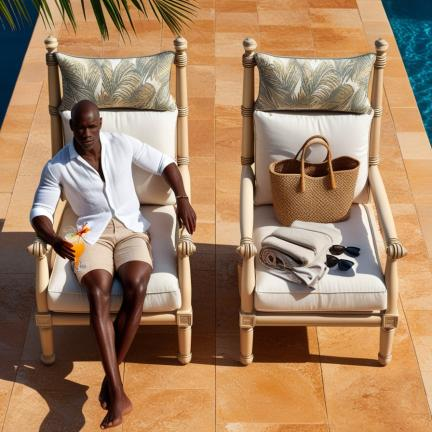guest on chair: (28, 37, 196, 428)
occupied chair: (237, 38, 407, 365)
